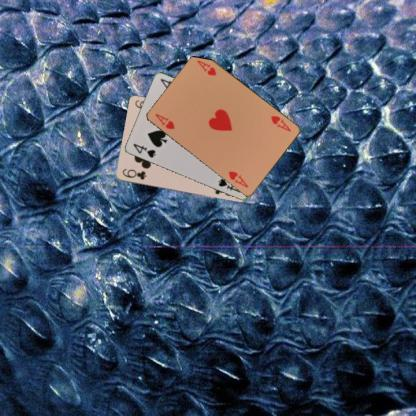4s: (130, 141, 156, 159)
6c: (120, 166, 147, 181)
Ah: (152, 111, 176, 131), (268, 113, 292, 133)
